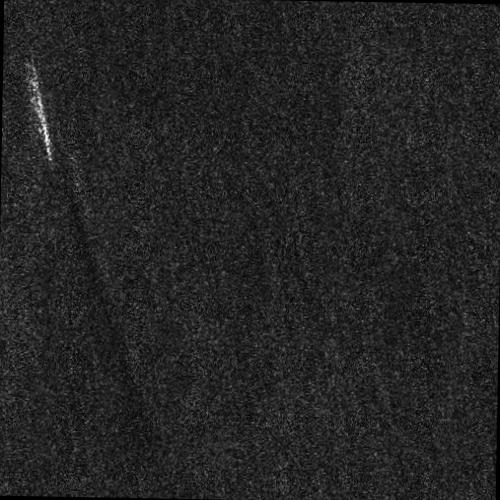ship: (31, 80, 52, 162)
